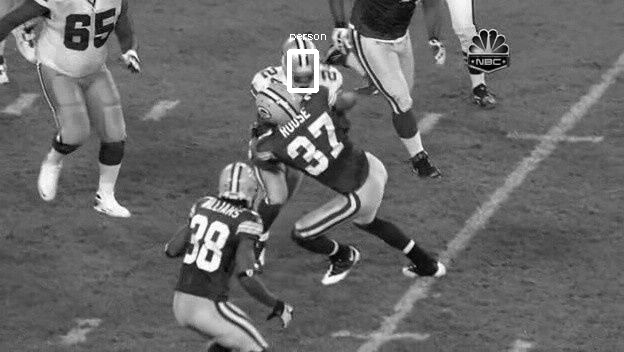person: (285, 42, 323, 91), (284, 42, 322, 91), (286, 42, 324, 91), (285, 41, 323, 90), (285, 43, 323, 92)
target_negative: (140, 88, 426, 326), (10, 202, 335, 324), (144, 4, 296, 225), (148, 296, 361, 336), (30, 278, 117, 326), (263, 97, 265, 131)
